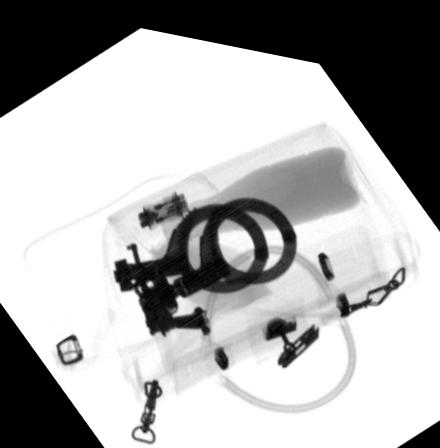Gun: (122, 235, 210, 331)
HandCuffs: (111, 183, 297, 304)
